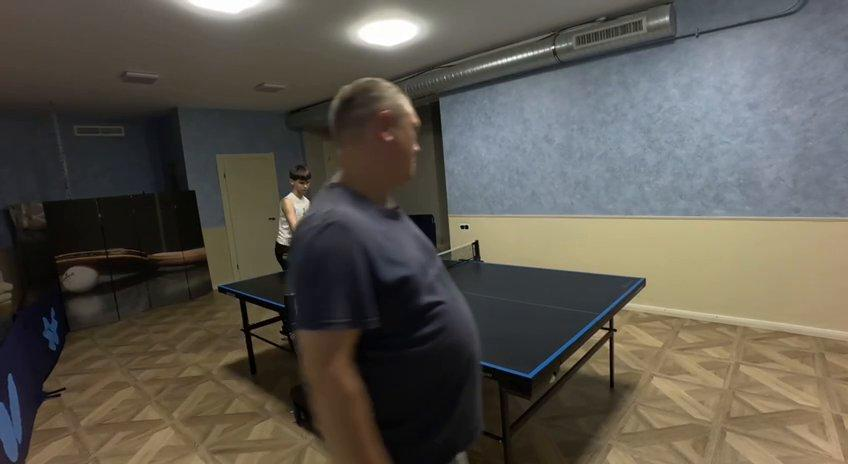Player1: (274, 165, 311, 269)
Player2: (288, 78, 481, 463)
